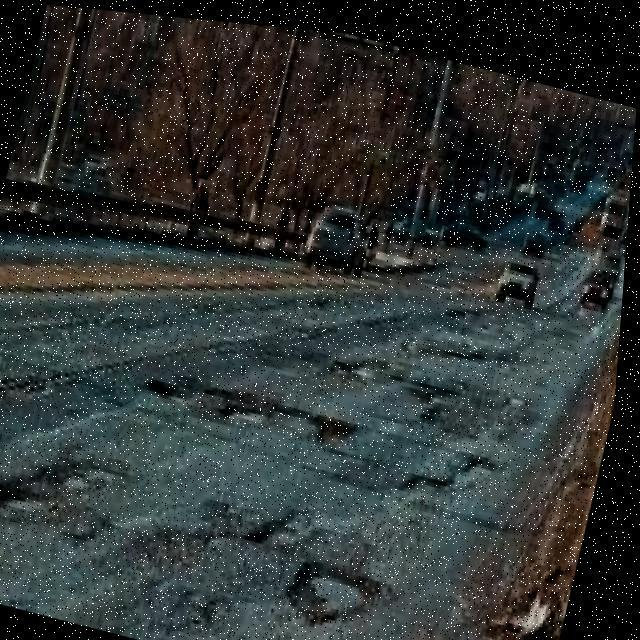pothole: (132, 361, 373, 456), (0, 430, 133, 541), (278, 534, 402, 636), (330, 341, 476, 404), (407, 426, 511, 504), (242, 498, 312, 554)
